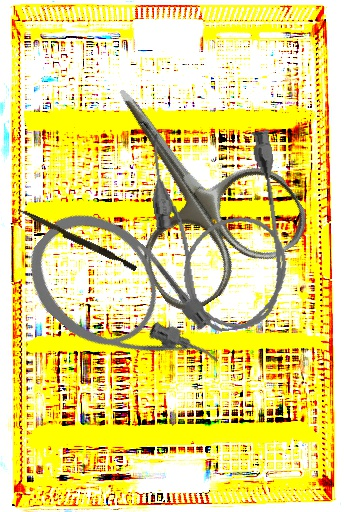Cannula: (8, 191, 243, 418), (142, 116, 299, 340)
Iris Scissors: (54, 42, 318, 323)
Pusher: (15, 207, 139, 272)
